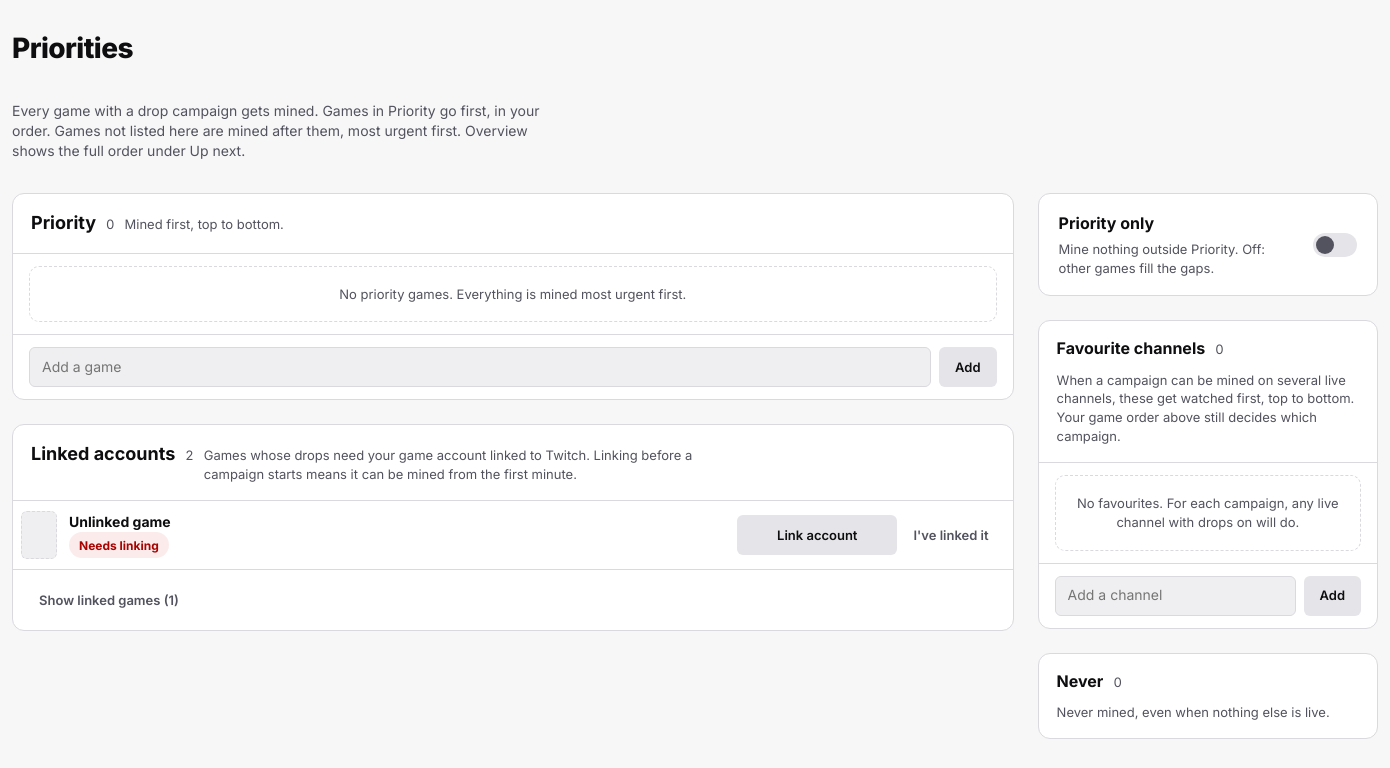
Test: Linked accounts lists games needing a link first, with link buttons; linked ones fold away
Expected: the text "Unlinked game" is shown, [69, 513, 171, 530]
Click the button "Show linked games (1)". click: {"x": 109, "y": 600}
box: [29, 580, 189, 620]
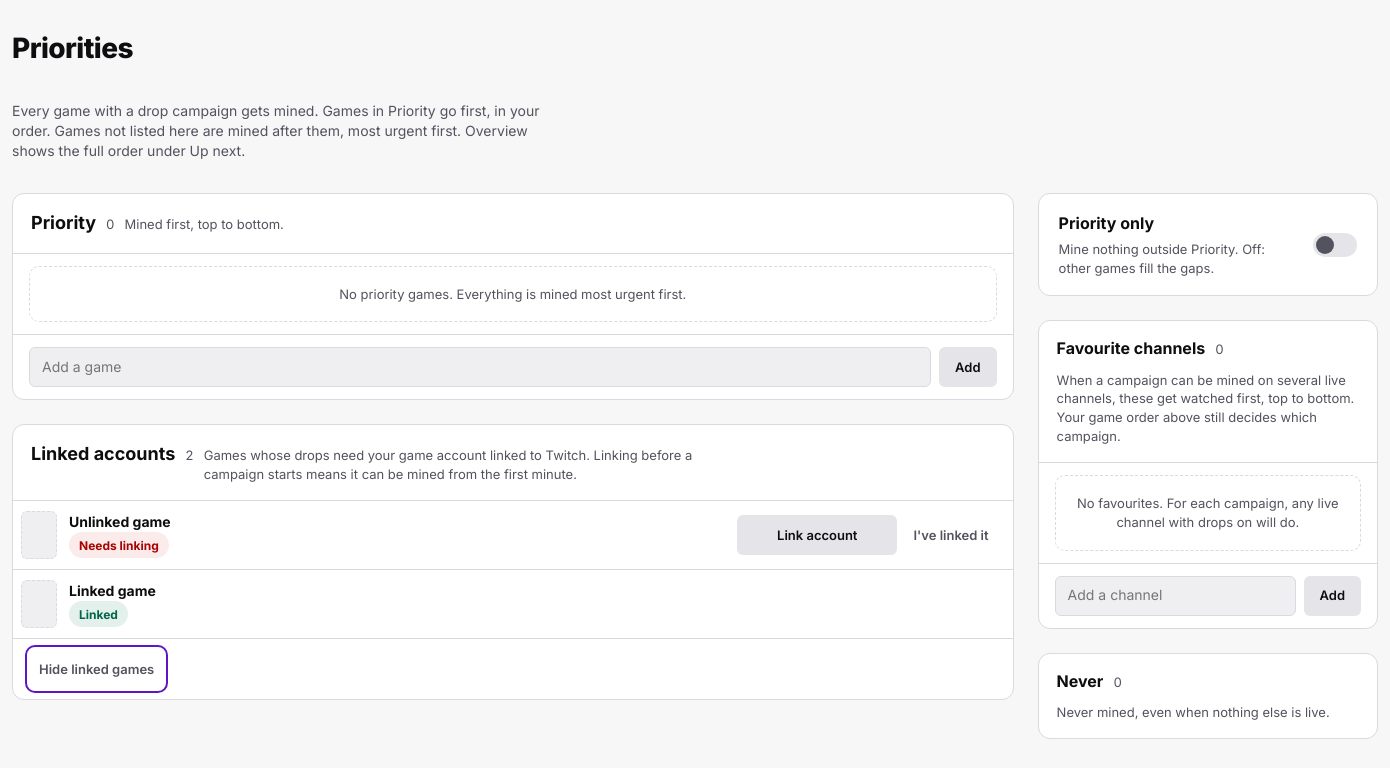
Result: the text "Linked game" is shown at [69, 582, 156, 599]
